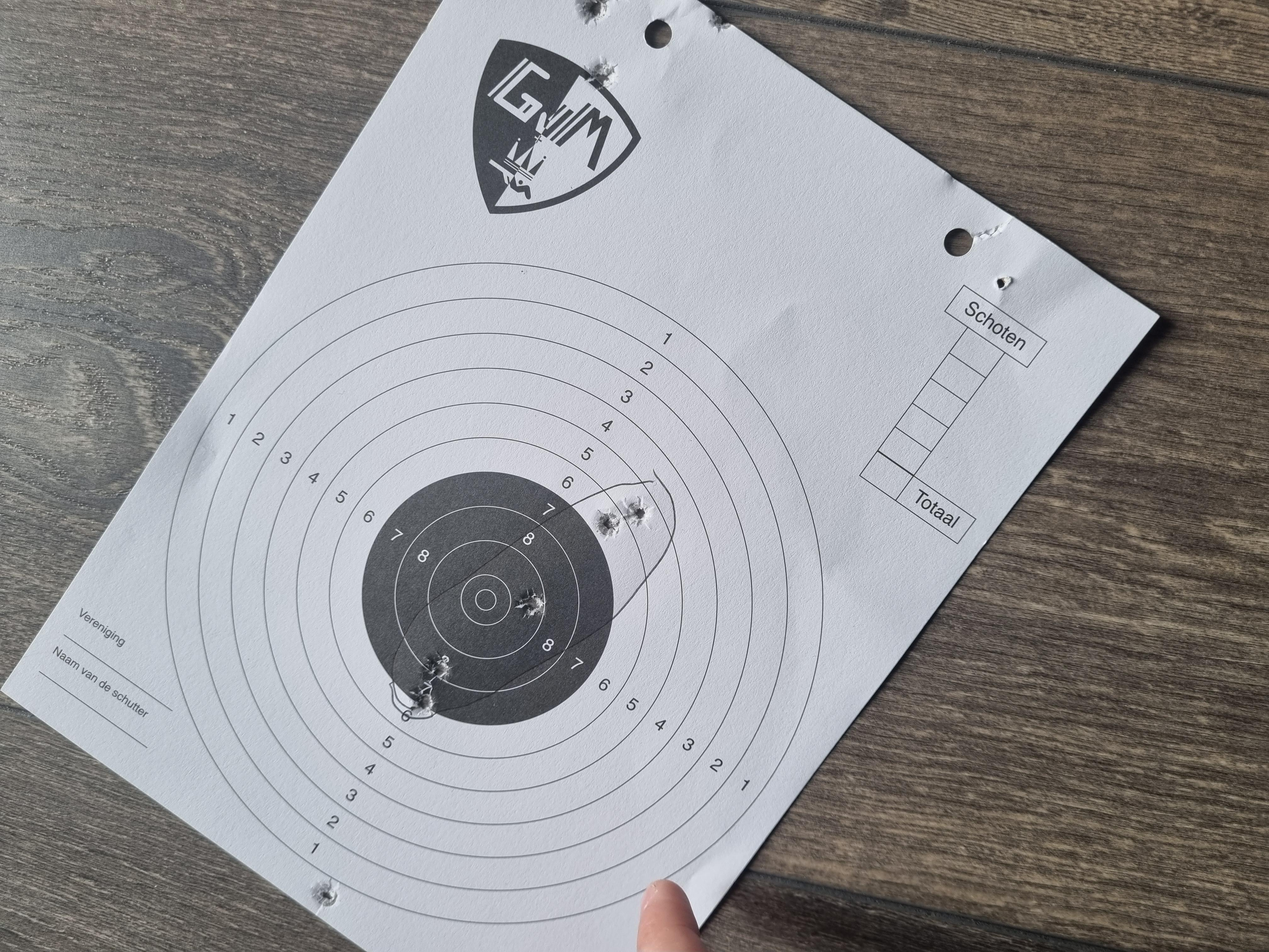hole: (1148, 439, 1192, 464), (57, 233, 99, 254), (1236, 430, 1269, 456), (445, 386, 479, 410), (359, 318, 400, 337), (565, 467, 607, 485), (314, 308, 353, 326), (555, 448, 591, 465), (1226, 533, 1251, 548)
